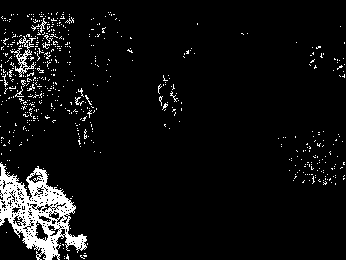person: (25, 165, 89, 260), (1, 159, 31, 260), (70, 88, 96, 149), (160, 71, 183, 130)
